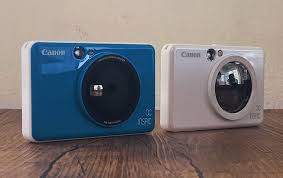camera: (24, 43, 154, 135), (163, 44, 262, 127)
